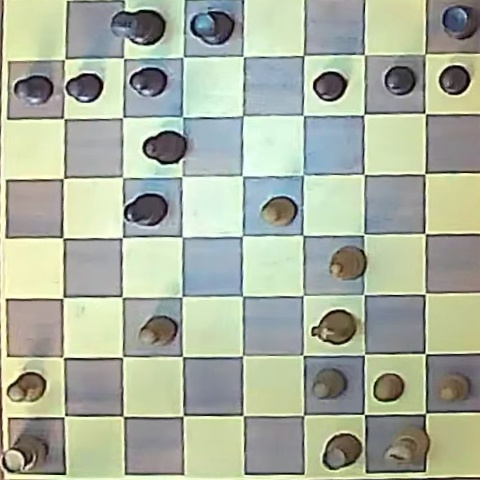black-bishop: (142, 130, 185, 165), (124, 193, 168, 227)
black-king: (112, 9, 165, 46)
black-pawn: (14, 75, 54, 105), (129, 67, 167, 97), (66, 72, 104, 102), (313, 71, 346, 101), (438, 65, 470, 95), (384, 66, 416, 95)
black-rook: (189, 10, 234, 45), (441, 4, 478, 39)
white-bishop: (329, 246, 366, 281)
white-king: (384, 426, 429, 466)
white-knight: (312, 310, 356, 346)
white-pawn: (6, 372, 46, 403), (138, 316, 176, 347), (260, 196, 296, 227), (312, 369, 345, 399), (438, 374, 468, 403), (374, 373, 404, 402)
white-rook: (2, 435, 47, 473), (323, 434, 362, 470)
